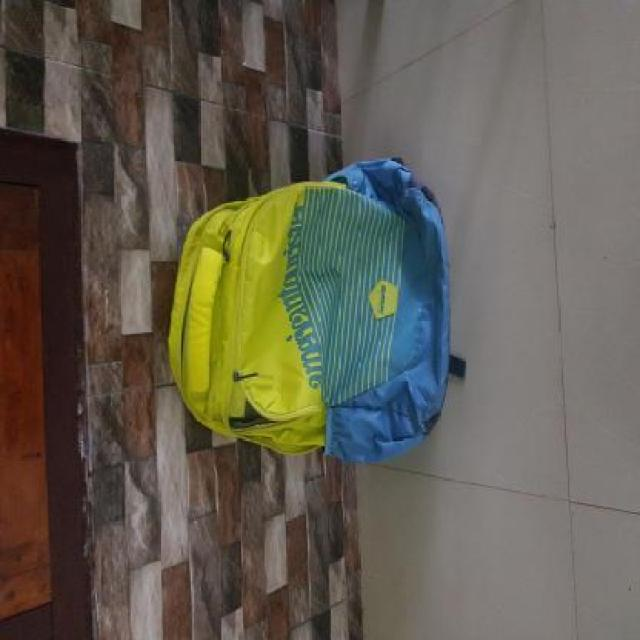backpack: (166, 152, 454, 468)
